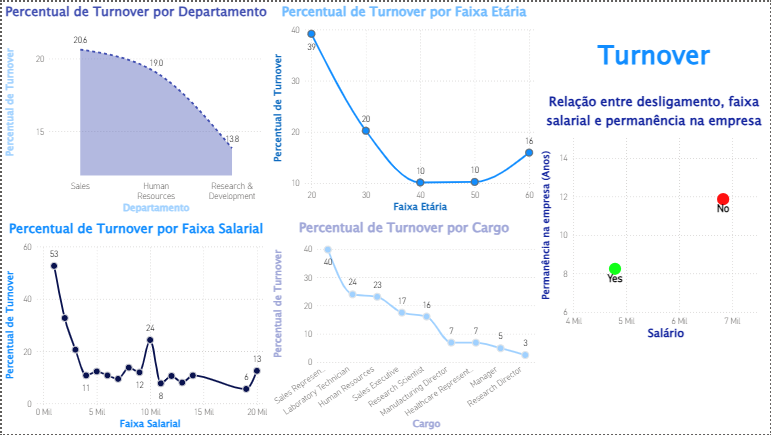

The dashboard page shown, as its layout file describes it:
{"tool":"powerbi","page":{"name":"Análise de Turnover","canvas":[1280,720],"ordinal":2},"visuals":[{"type":"lineChart","title":"Percentual de Turnover por Departamento","fields":{"Y":["Medidas.Percentual de Turnover"],"Category":["RH.Department"]},"box":[0,0,446.8,361.2],"z":0},{"type":"lineChart","title":"Percentual de Turnover por Cargo","fields":{"Y":["Medidas.Percentual de Turnover"],"Category":["RH.JobRole"]},"box":[446.8,359.5,446.8,361.2],"z":1000},{"type":"lineChart","title":"Percentual de Turnover por Faixa Etária","fields":{"Category":["RH.Faixa"],"Y":["Medidas.Percentual de Turnover"]},"box":[446.8,0,446.8,359.5],"z":2000},{"type":"lineChart","fields":{"Category":["RH.Faixa Salarial"],"Y":["Medidas.Percentual de Turnover"]},"box":[0,361.2,446.8,359.5],"z":3000},{"type":"scatterChart","title":"Relação entre desligamento, faixa salarial e permanência na empresa","fields":{"X":["Avg(RH.MonthlyIncome)"],"Y":["Avg(RH.TotalWorkingYears)"],"Category":["RH.Attrition"]},"box":[893.6,149.5,386.4,421.6],"z":4000},{"type":"textbox","box":[893.6,52.1,386.4,75.6],"z":5000}]}

Visuals, with their boxes in screenshot pixels (x1, y1, x2, y2), scaled from the page's 1280x720 canvas onto the 771x435 screenshot:
"Percentual de Turnover por Departamento" lineChart: 0/0/269/218
"Percentual de Turnover por Cargo" lineChart: 269/217/538/434
"Percentual de Turnover por Faixa Etária" lineChart: 269/0/538/217
lineChart - RH.Faixa Salarial x Medidas.Percentual de Turnover: 0/218/269/434
"Relação entre desligamento, faixa salarial e permanência na empresa" scatterChart: 538/90/770/345
textbox: 538/31/770/77
